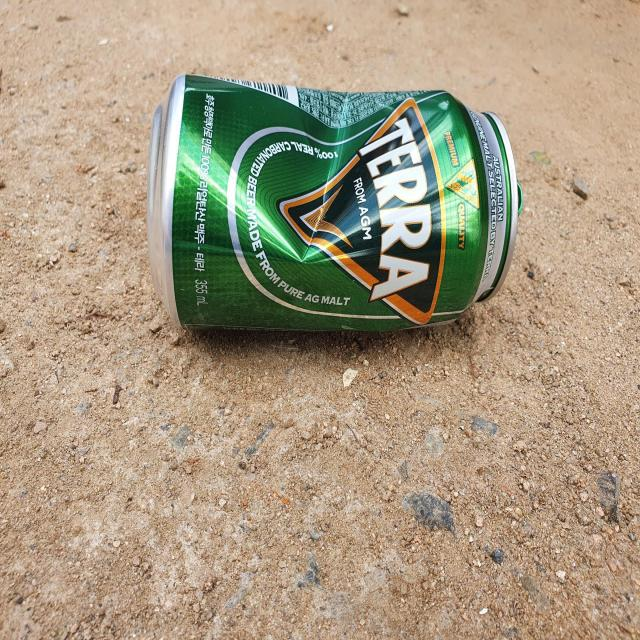can: (147, 74, 523, 331)
